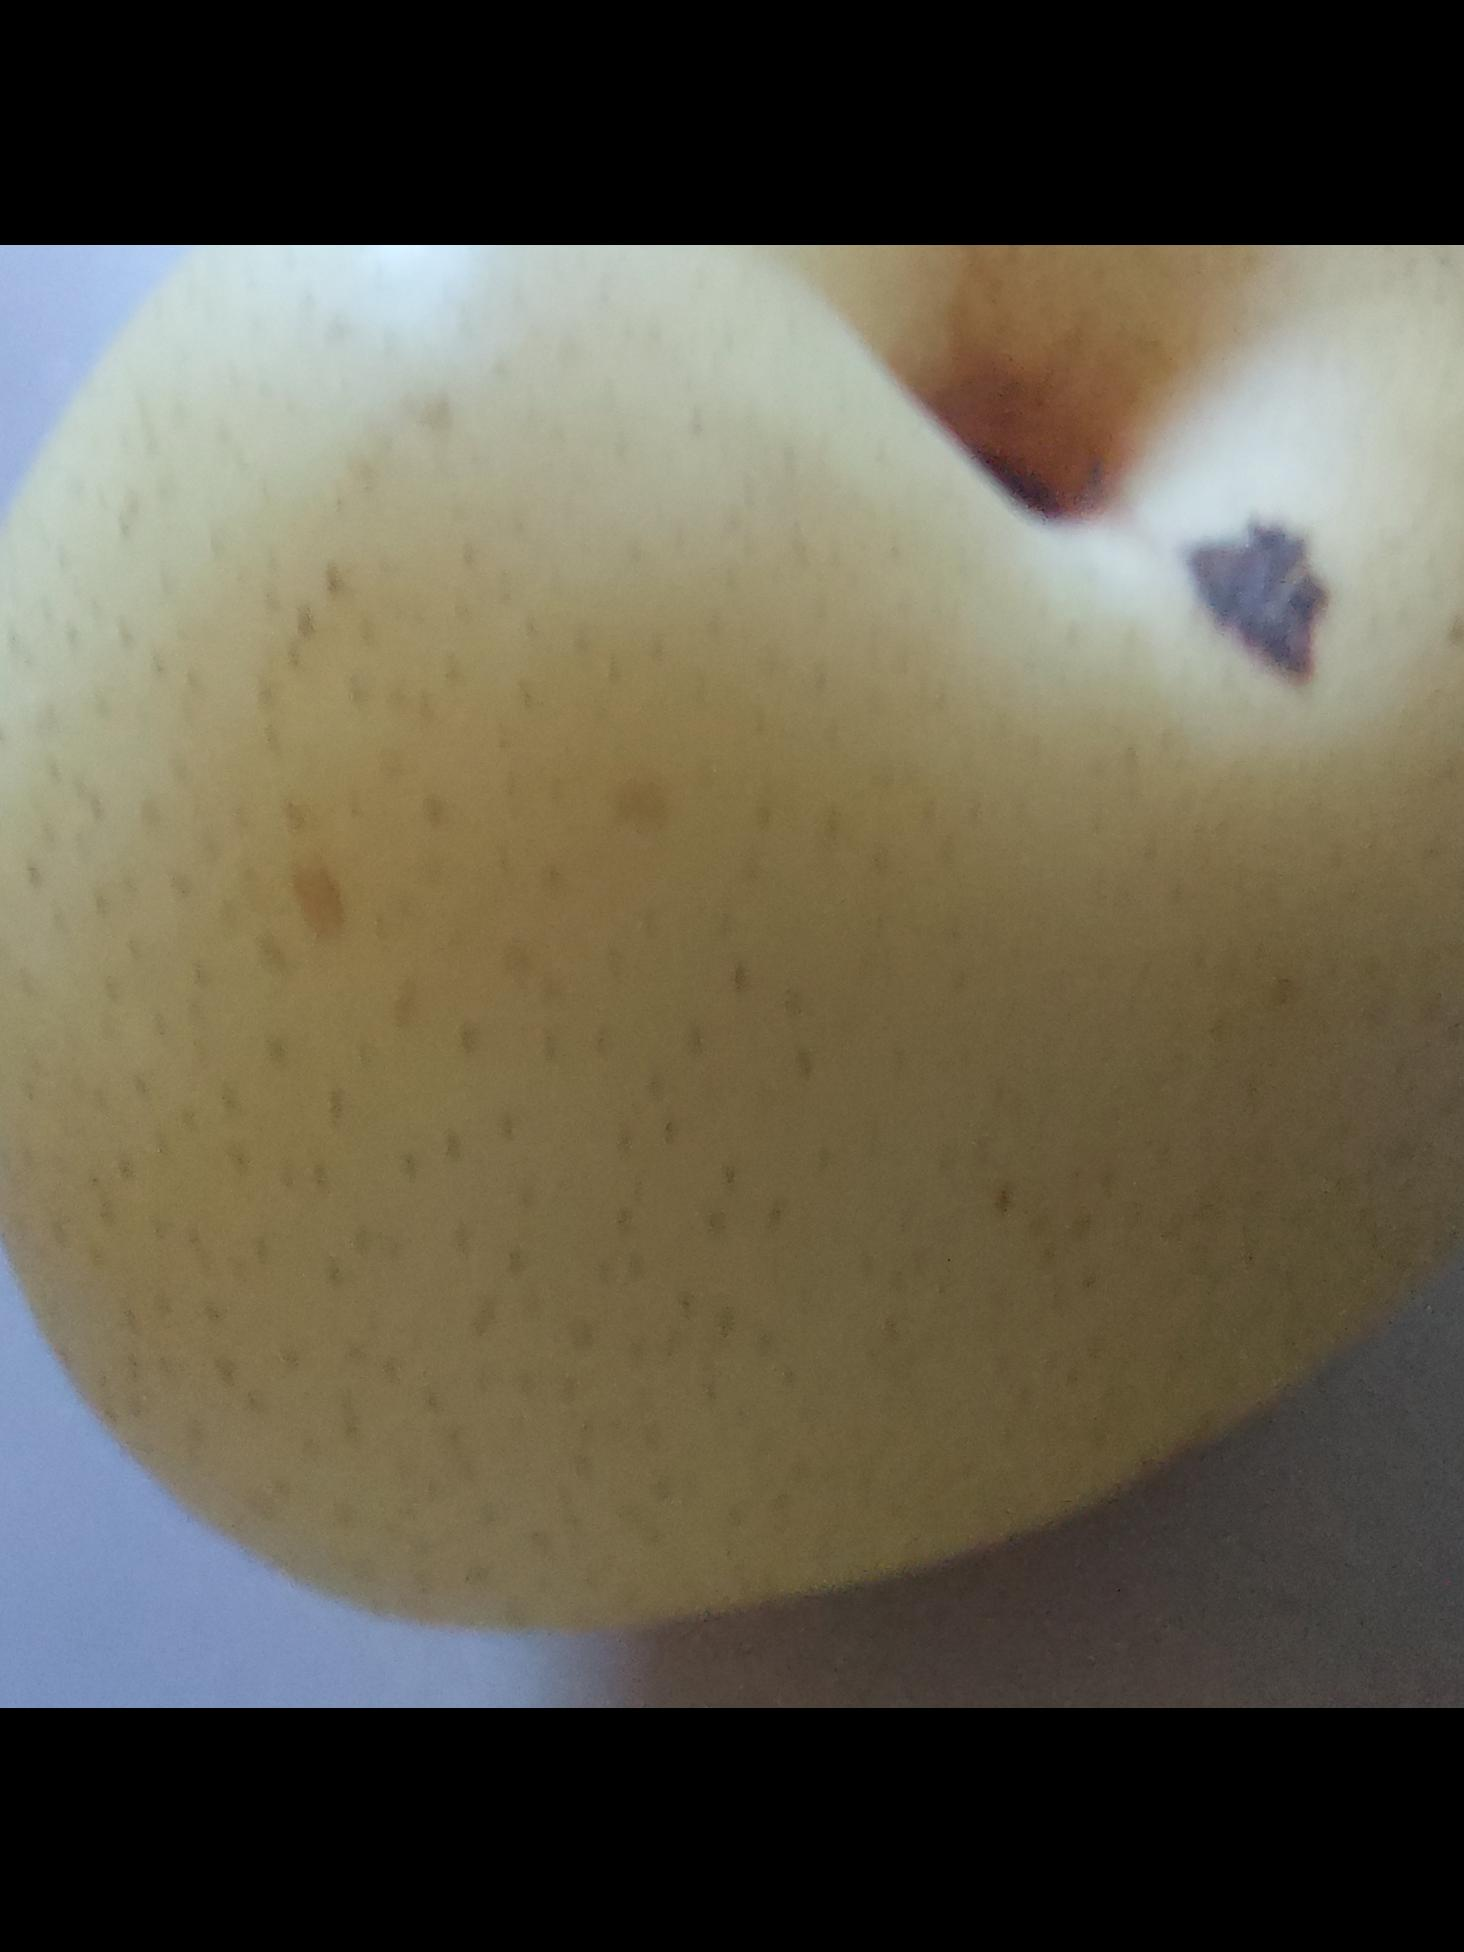Good Pear: (0, 244, 1464, 1642)
